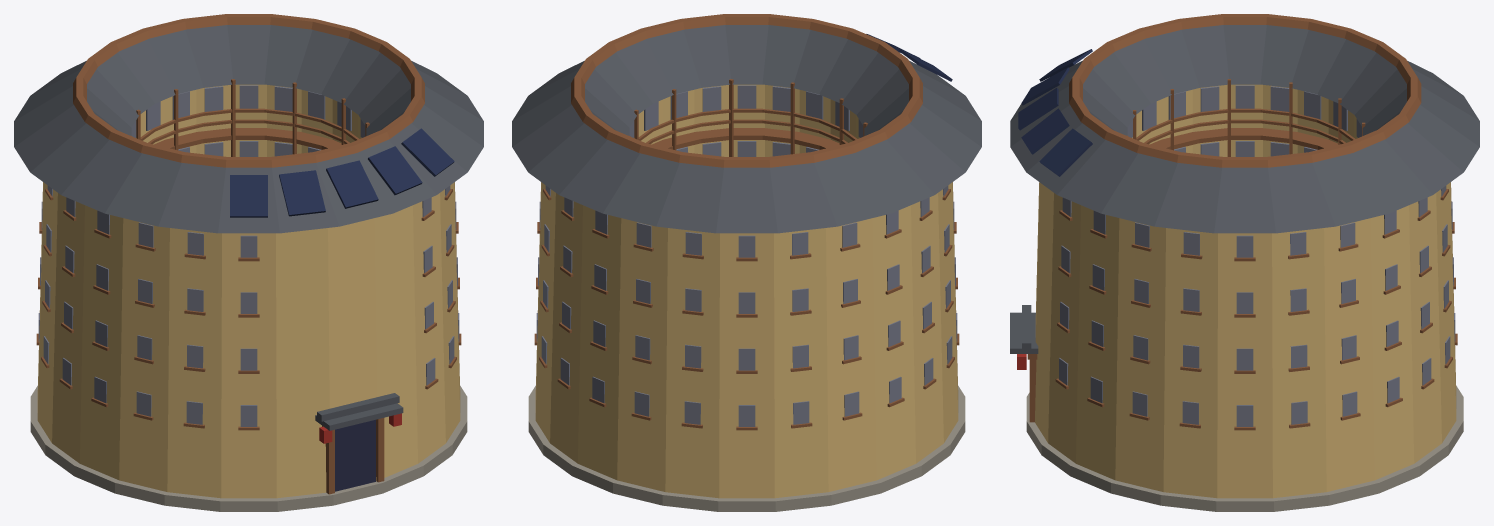
File: house-2x2-5f-tulou-a-solar.glb
3 views of the same model, side by side, from view 1: azimuth 30°, elevation 25°; view 2: azimuth 150°, elevation 25°; view 3: azimuth 270°, elevation 25° (orthographic).
Parts seen in each view (by area): view 1: house-2x2-5f-tulou-a-solar; view 2: house-2x2-5f-tulou-a-solar; view 3: house-2x2-5f-tulou-a-solar.
Boxes of the visible parts, x1=… form: house-2x2-5f-tulou-a-solar: x1=14, y1=14, x2=483, y2=511; house-2x2-5f-tulou-a-solar: x1=512, y1=14, x2=981, y2=511; house-2x2-5f-tulou-a-solar: x1=1010, y1=14, x2=1479, y2=511.
Bounding box in the file's own units: 1.98 × 1.55 × 1.98.
Materials: 1 (1 with a texture image).
